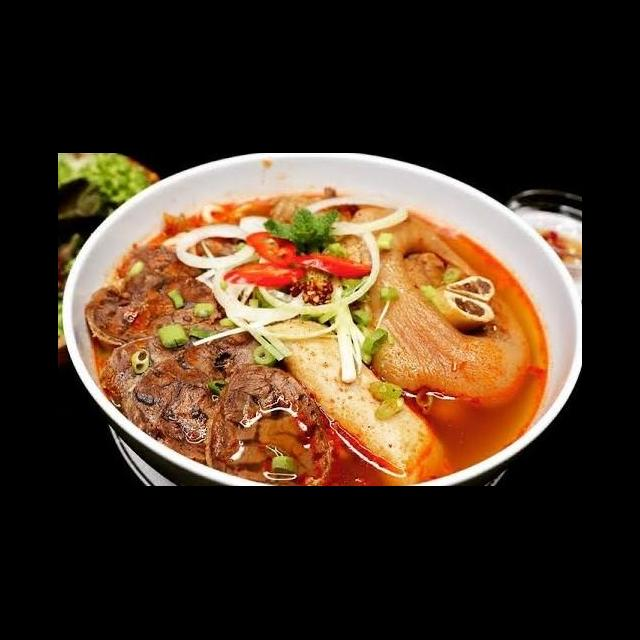thit bo: (117, 332, 287, 474), (95, 320, 261, 430), (199, 359, 338, 486), (112, 242, 230, 326), (83, 284, 232, 348)
